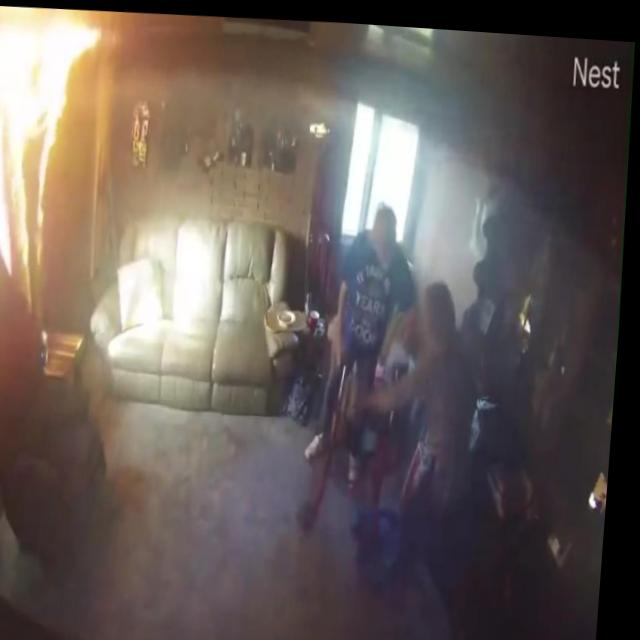fire: (0, 7, 110, 304)
